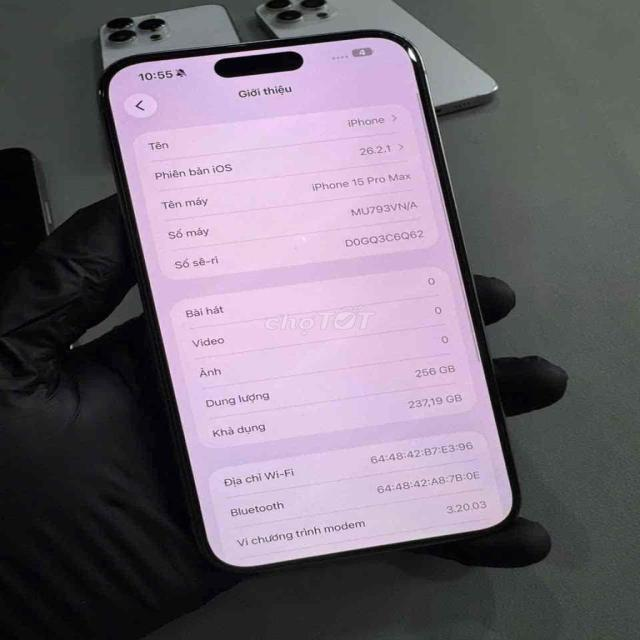gen_15: (100, 28, 539, 578)
